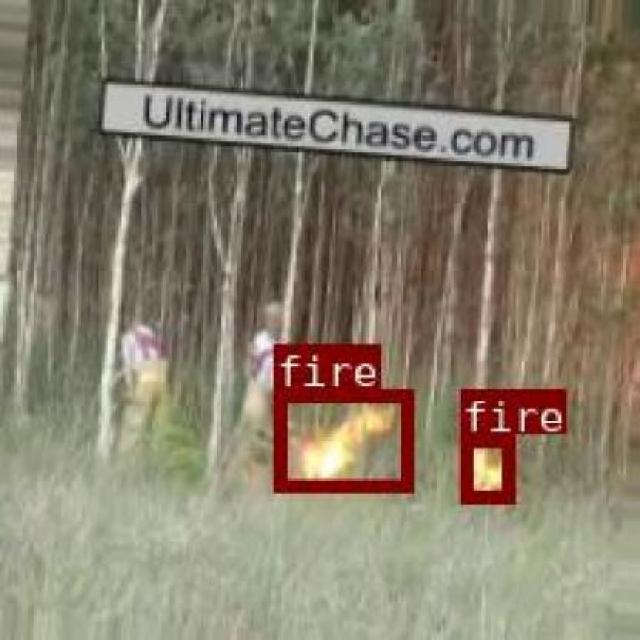Fire: (272, 388, 411, 490), (457, 433, 511, 501)
